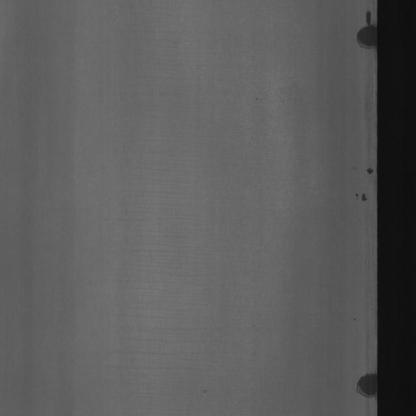oil_spot: (350, 324, 375, 416), (347, 12, 378, 61)
